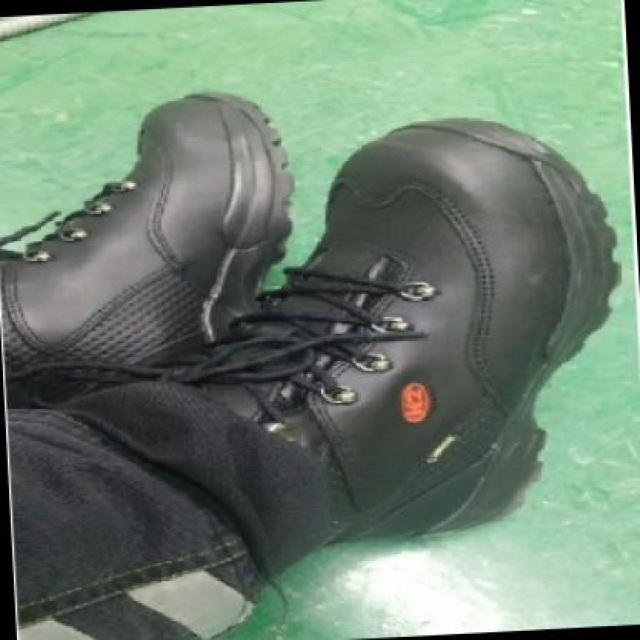Safety Boots: (0, 95, 618, 573)
